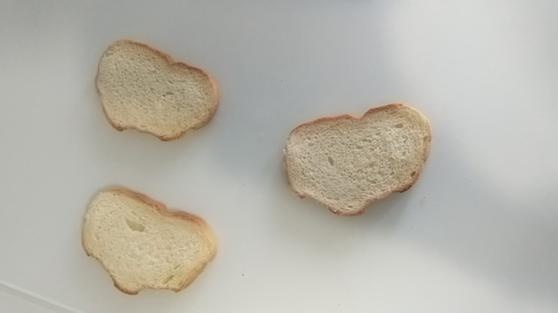white_bread: (284, 106, 430, 215), (82, 186, 218, 294), (94, 40, 221, 138)
